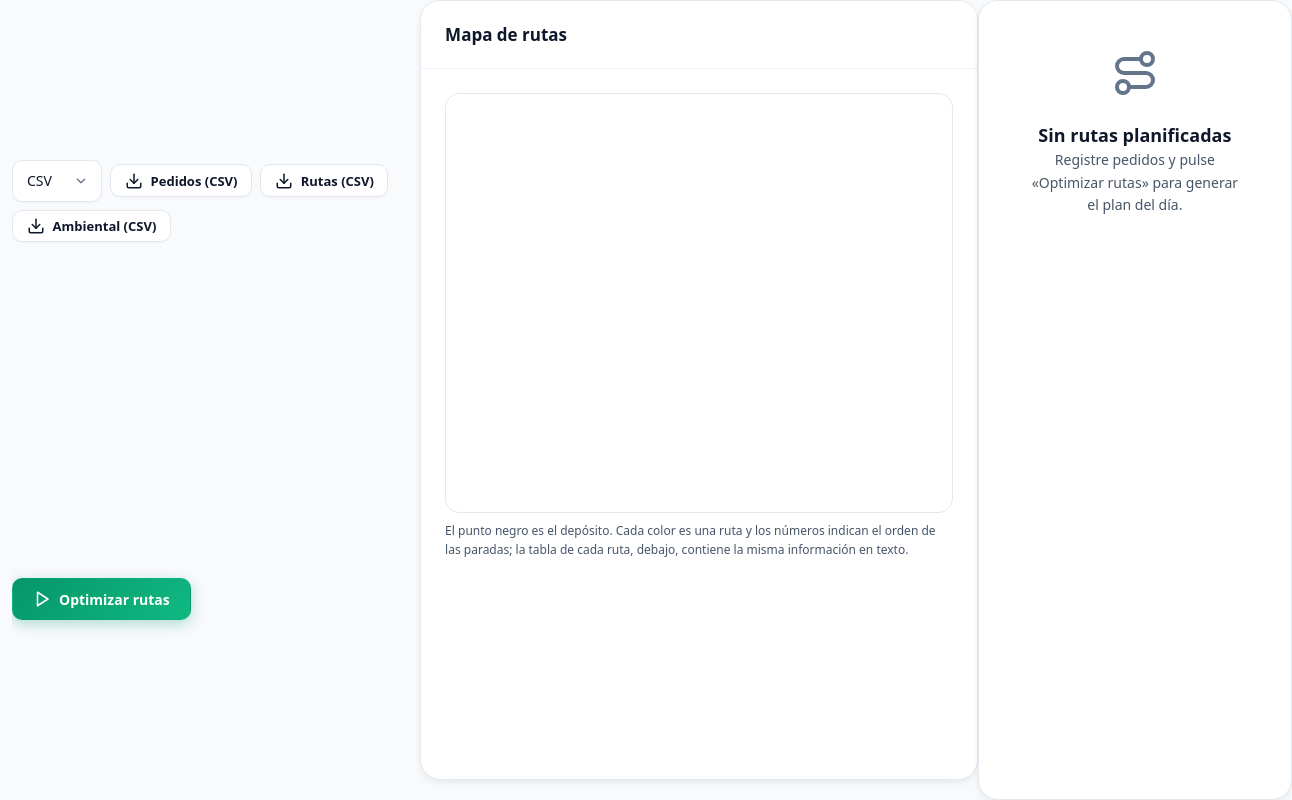
RutasPage › muestra el mensaje del servidor si no hay pedidos pendientes
Click the button "Optimizar rutas" at {"x": 101, "y": 599}, box [12,578,191,620]
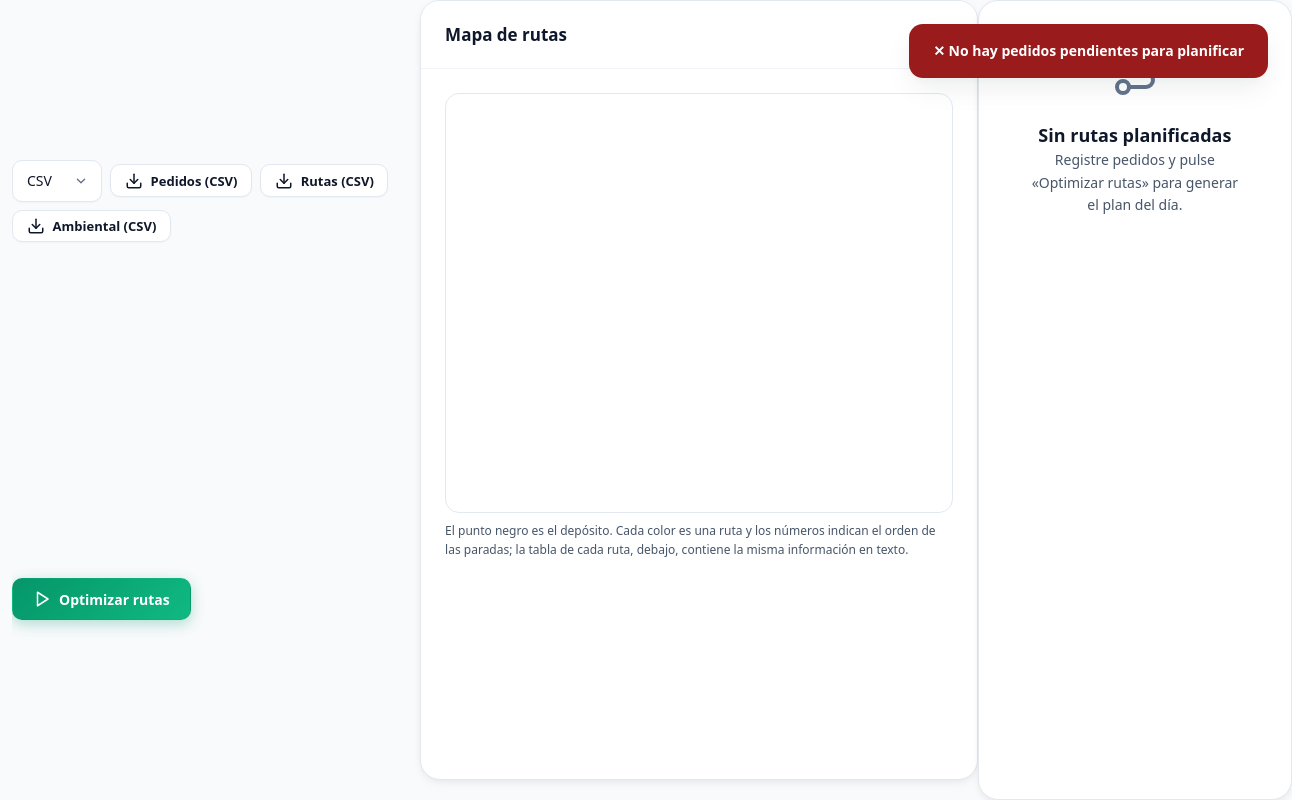
Check: the text "✕ No hay pedidos pendientes para planificar" is shown, box [909,24,1268,78]
